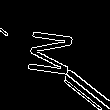M_E: (27, 28, 83, 82)
